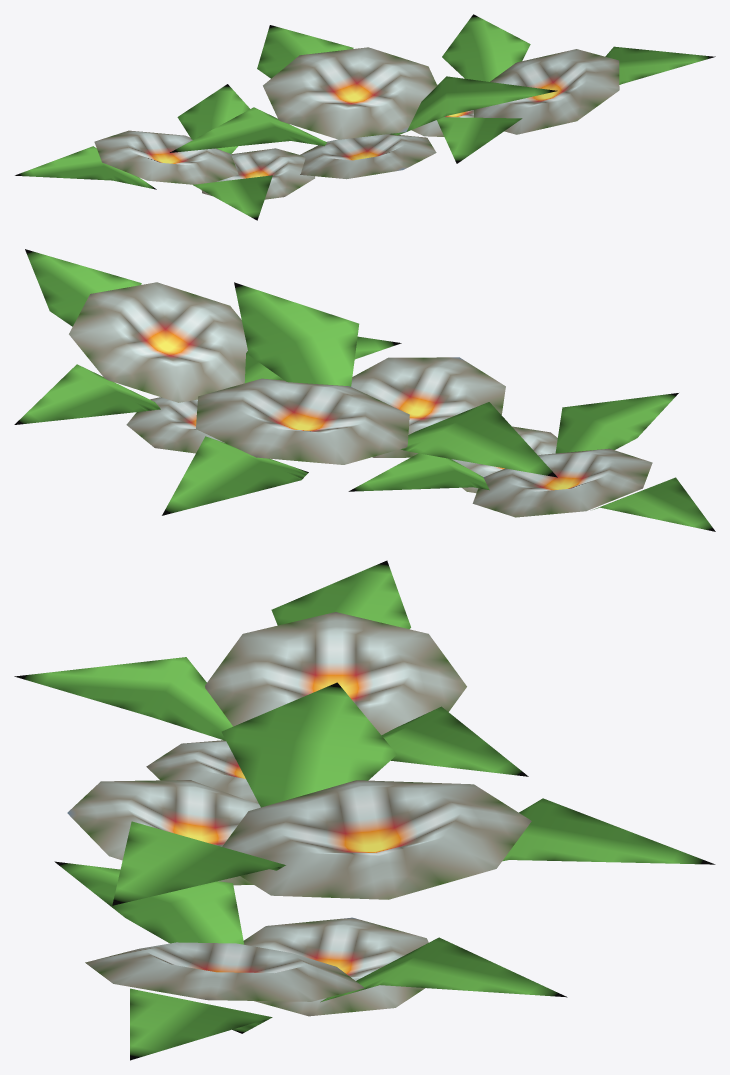
The model's file is deco_flowerGroup_white.FBX.
3 views of the same model, one above another, from view 1: azimuth 30°, elevation 25°; view 2: azimuth 150°, elevation 25°; view 3: azimuth 270°, elevation 25° (orthographic). The views are drawn at different scales.
Visible parts, largest first — view 1: deco_flowerGroup_white; view 2: deco_flowerGroup_white; view 3: deco_flowerGroup_white.
Part boxes in pixels (x1,y1,x2,y2): deco_flowerGroup_white: (15, 14, 715, 220); deco_flowerGroup_white: (14, 249, 715, 531); deco_flowerGroup_white: (14, 560, 715, 1060).
Size of the model in its own units: 1.85 by 0.1701 by 1.03.
1 material, 1 textured.
